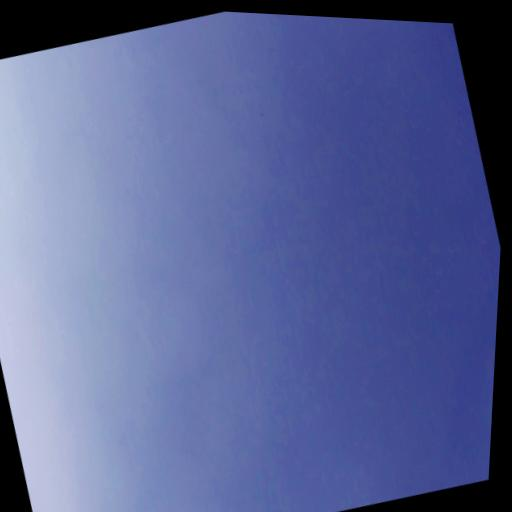drones: (255, 103, 271, 123)
